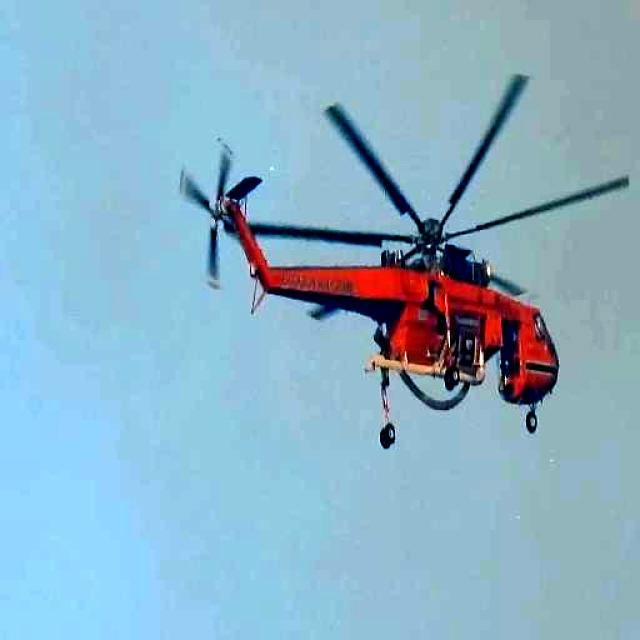drone: (178, 92, 629, 458)
